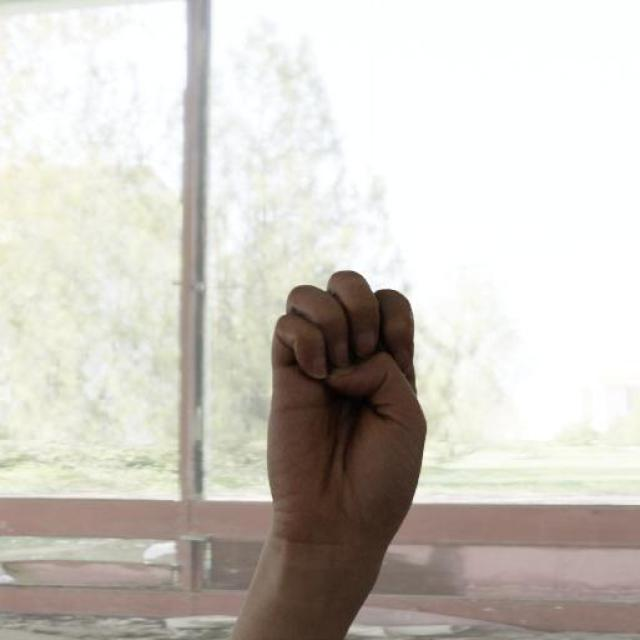E: (263, 262, 429, 538)
